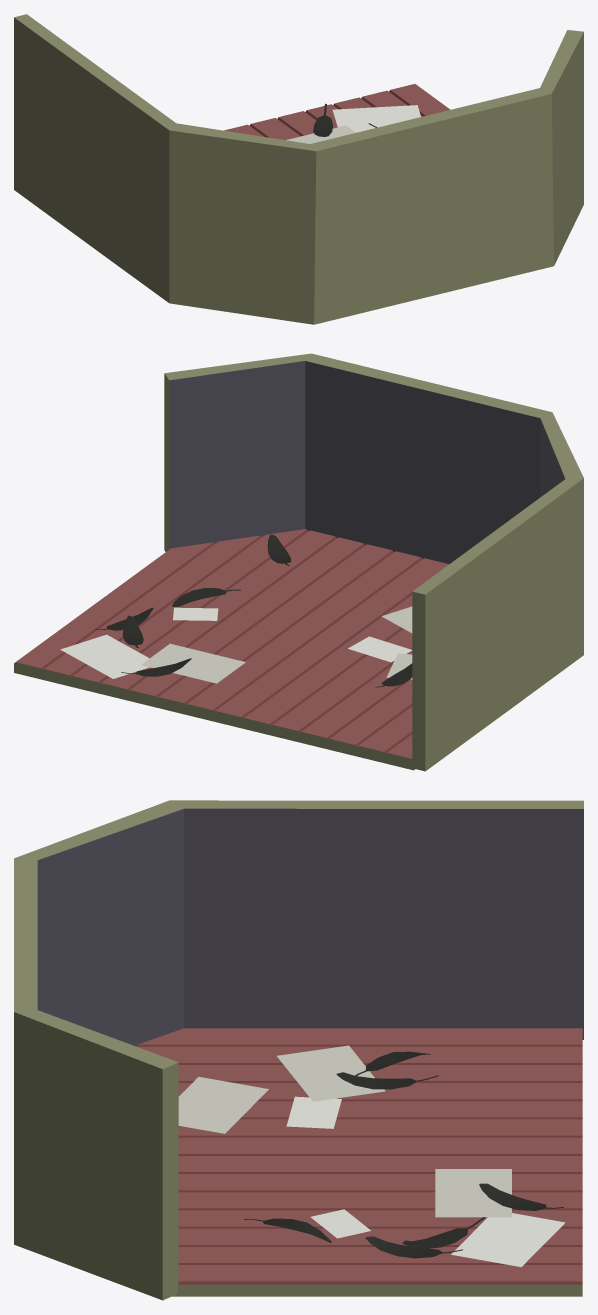
Rendered from secretroom2.fbx.
3 views of the same model, one above another, from view 1: azimuth 30°, elevation 25°; view 2: azimuth 150°, elevation 25°; view 3: azimuth 270°, elevation 25° (orthographic). The views are drawn at different scales.
Parts seen in each view (by area): view 1: secretroom2; view 2: secretroom2; view 3: secretroom2.
Boxes of the visible parts, bbox=[...] form: secretroom2: bbox=[14, 14, 583, 324]; secretroom2: bbox=[14, 353, 583, 771]; secretroom2: bbox=[14, 800, 583, 1300].
Size of the model in its own units: 595 by 241 by 533.
